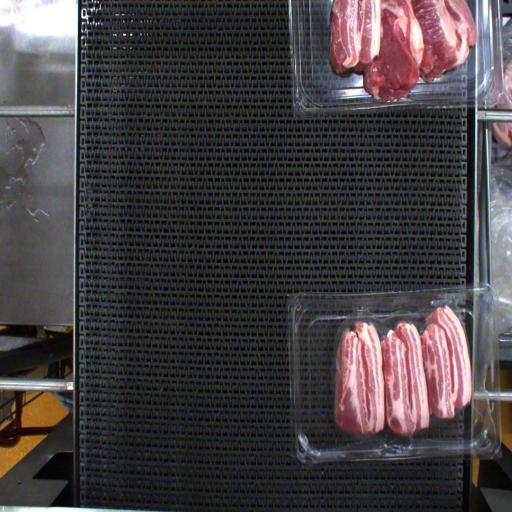unsealed: (327, 289, 472, 354)
